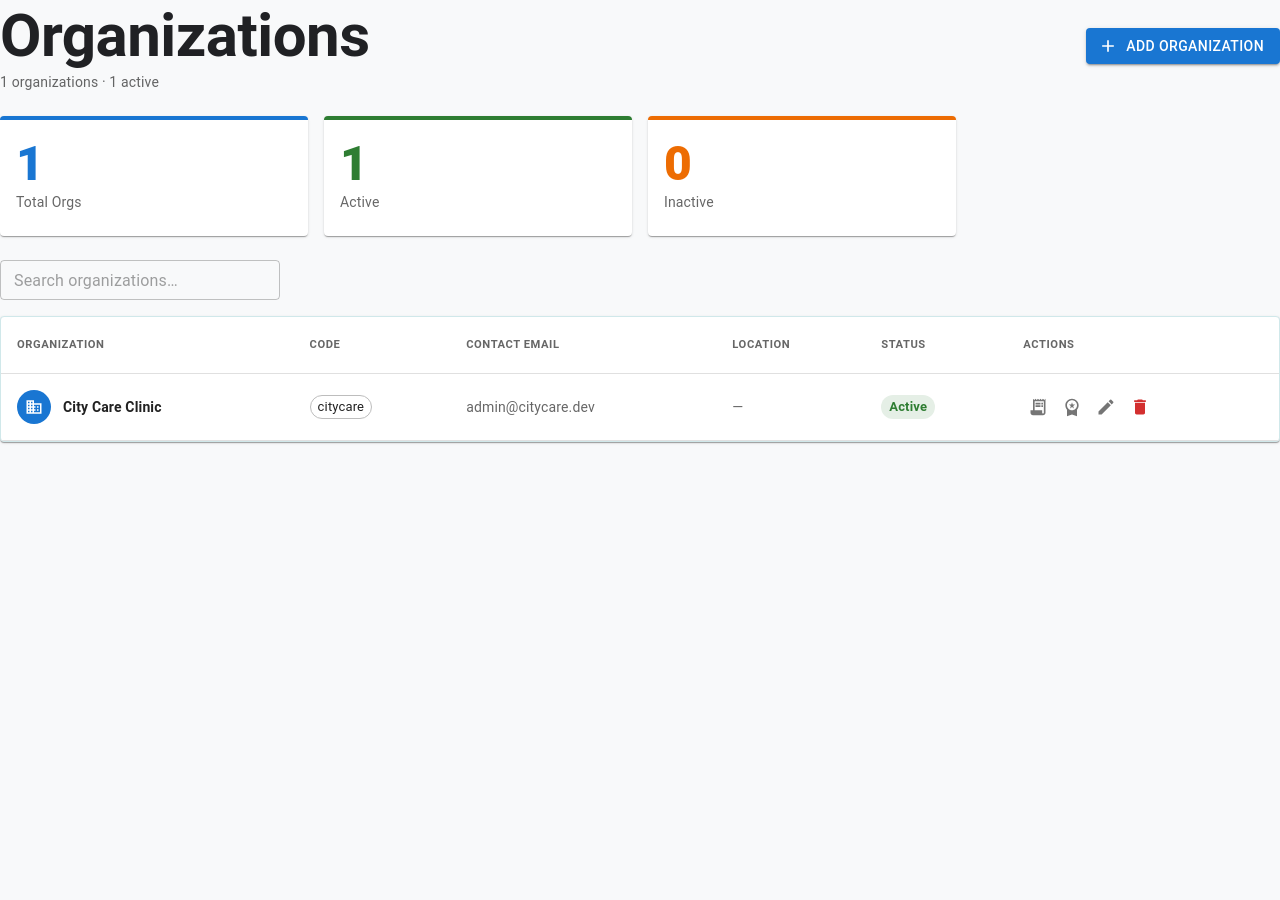
admin/Organizations — entitlement plan assignment (P1-04) › opens the plan dialog and lists the real plan catalog
Check: the text "City Care Clinic" is shown, box [63,397,162,417]
Click the button named "Assign an entitlement plan": (1072, 407) [1057,392,1087,422]
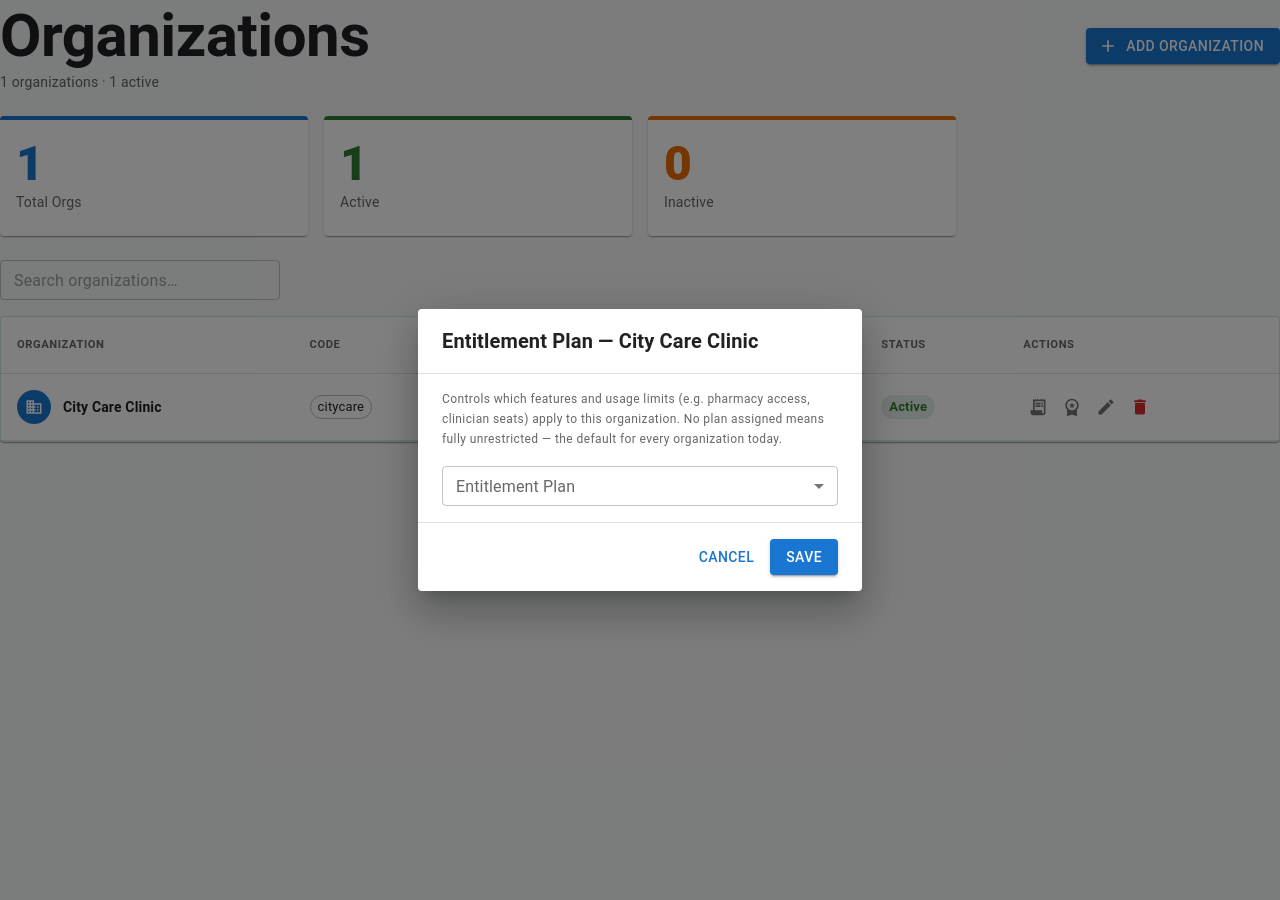
Check: the heading "Entitlement Plan — City Care Clinic" is shown, box [442,329,759,353]
Press the mouse on the dropdown named "Entitlement Plan": (640, 486) [442,466,838,506]
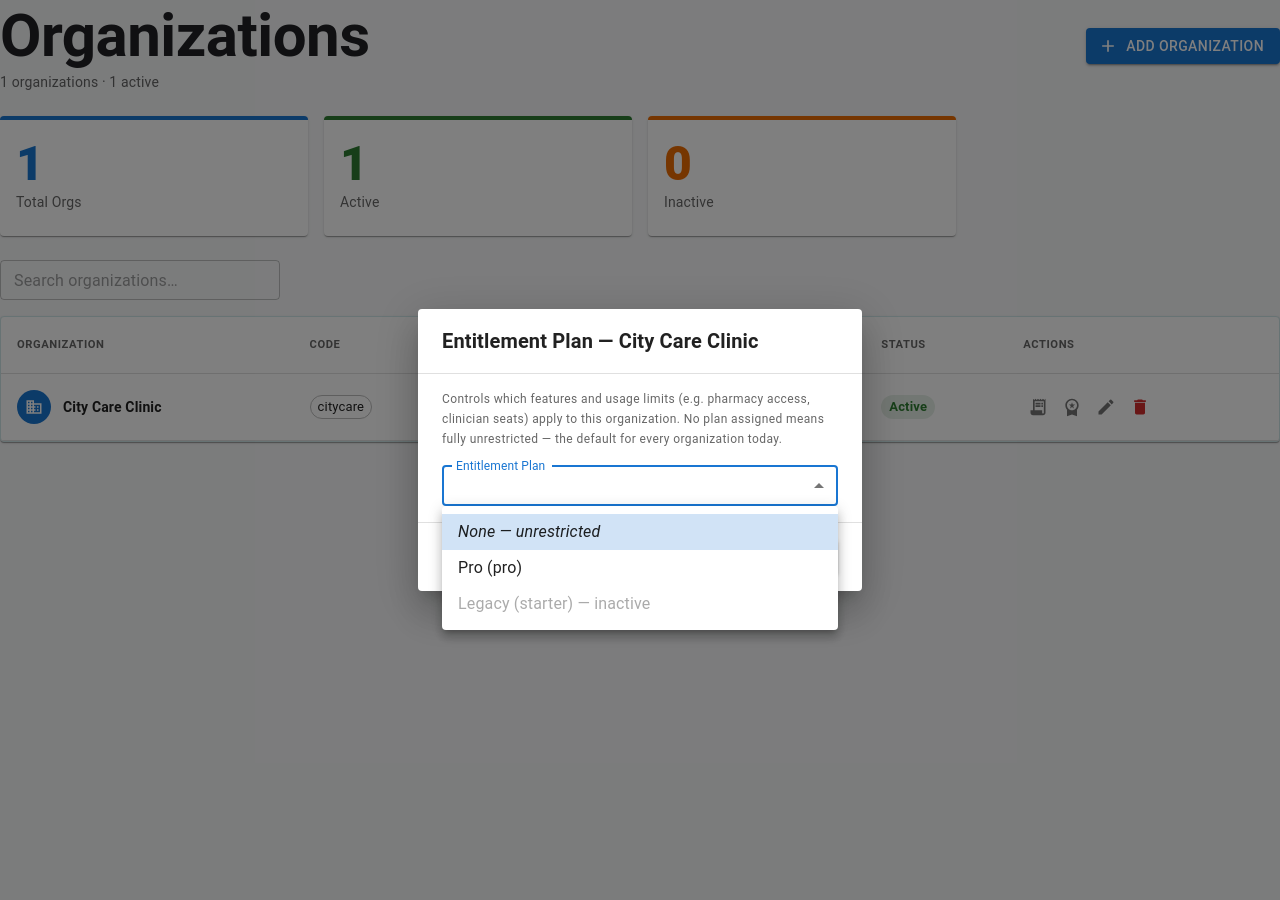
Check: the text "None — unrestricted" is shown, box [458,520,600,544]
Check: the option "Pro (pro)" is shown, box [458,558,522,577]
Check: the option "Legacy (starter) — inactive" is shown, box [458,594,650,613]
